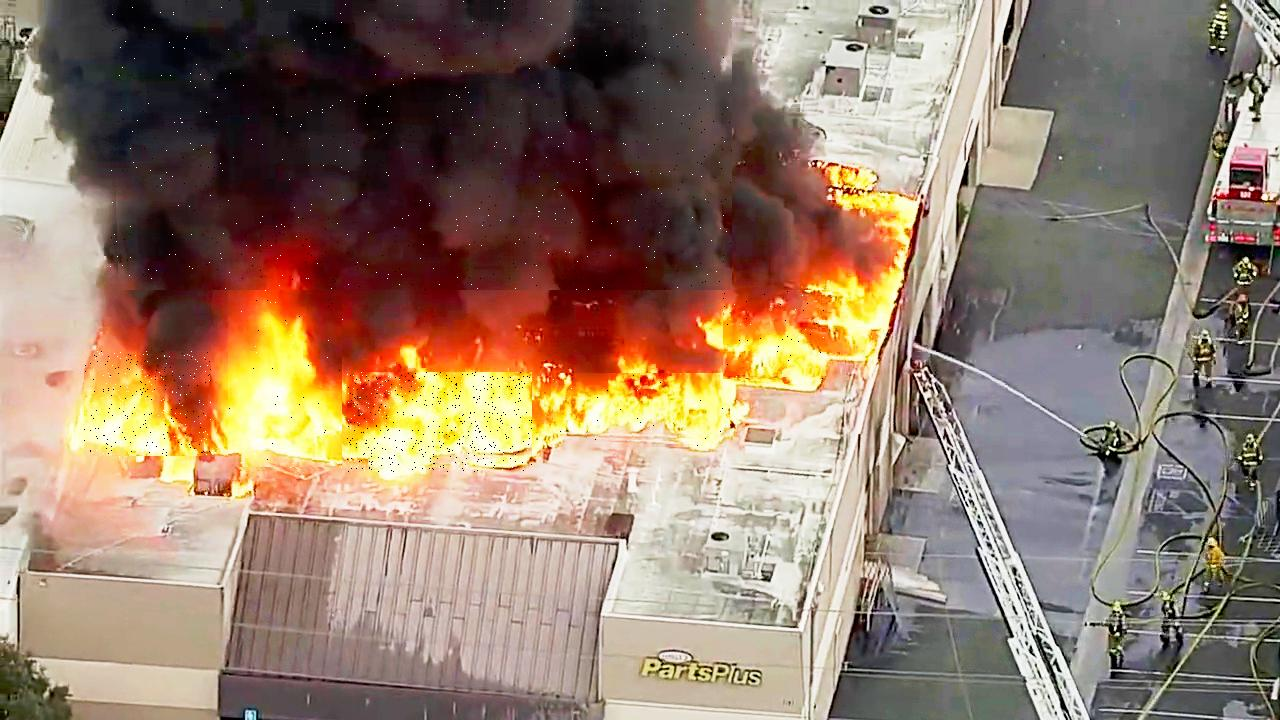fire: (229, 290, 345, 470), (347, 372, 532, 472), (84, 352, 211, 459), (551, 374, 730, 447), (724, 290, 825, 379)
smoke: (110, 0, 732, 290)
